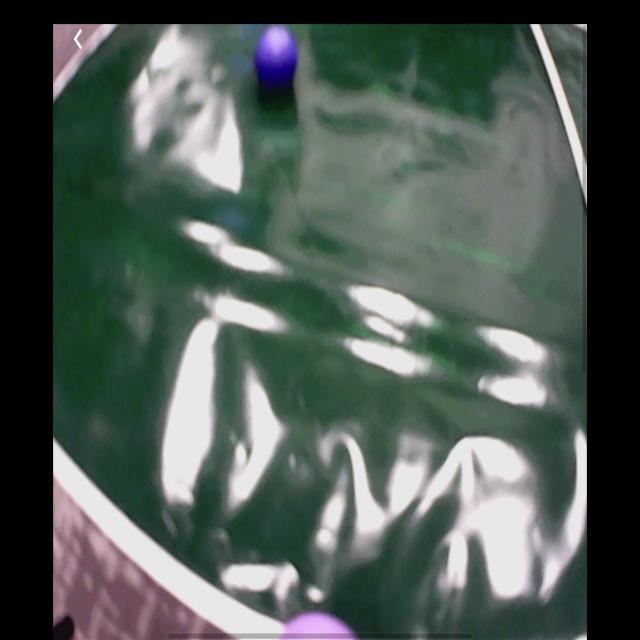ball: (256, 24, 299, 87), (282, 613, 363, 640)
